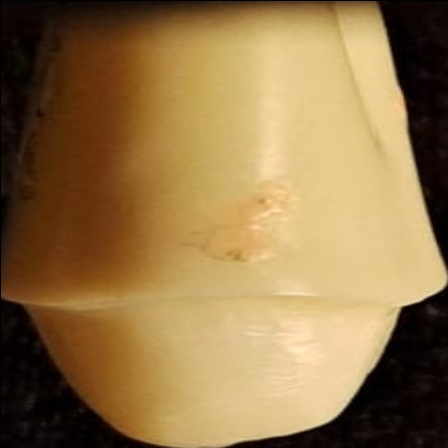coin_1: (399, 307, 419, 327)
coin_2: (373, 368, 393, 388)
coin_3: (21, 305, 41, 325)
coin_4: (59, 366, 79, 386)
